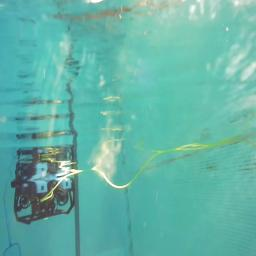back: (10, 177, 76, 225)
